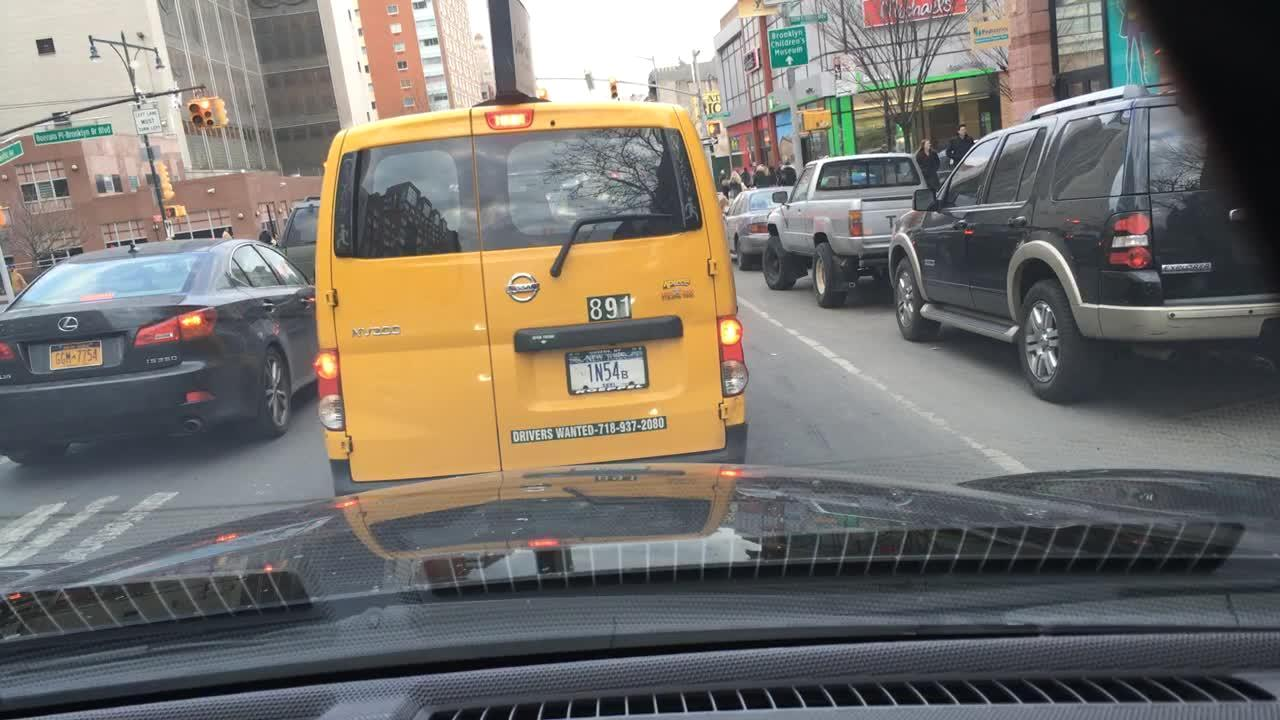Nissan: (501, 267, 544, 309)
lexus: (51, 310, 82, 338)
